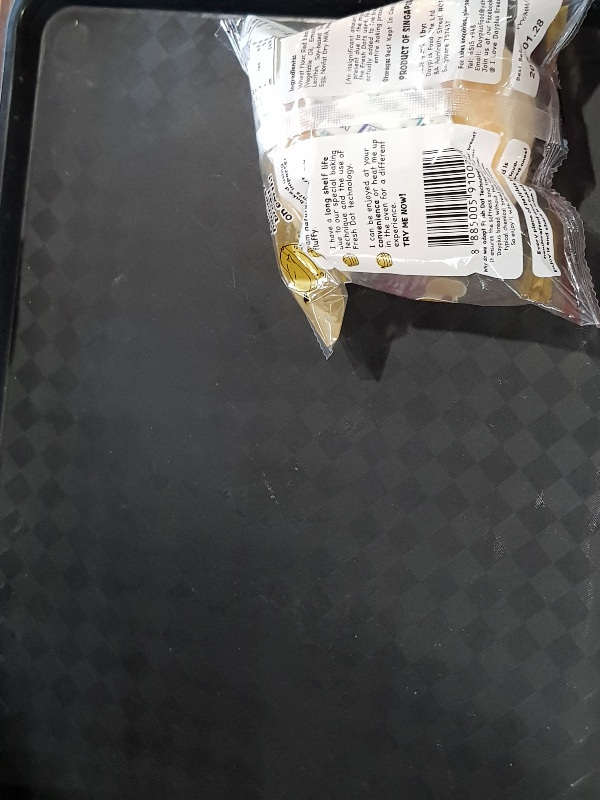Dayplus Red Bean: (215, 1, 600, 362)
